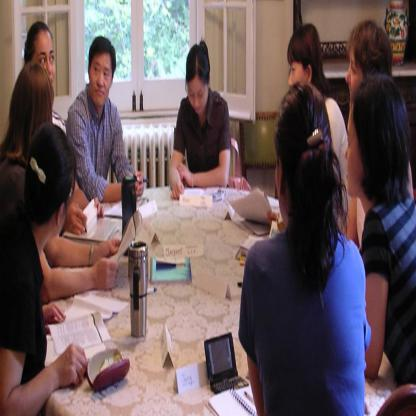face: (346, 118, 367, 197), (276, 149, 296, 227), (347, 53, 368, 111), (46, 196, 73, 238), (33, 42, 56, 91), (91, 59, 114, 105), (289, 56, 309, 104), (188, 78, 209, 114)
